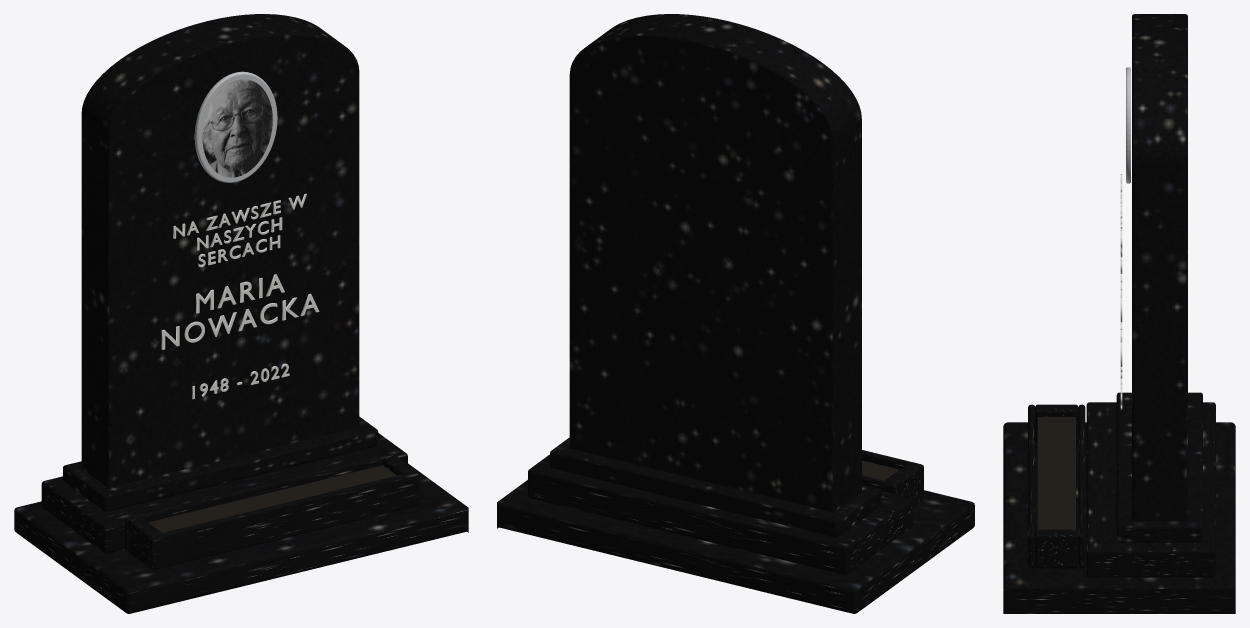
The model's file is rounded-monument.glb.
3 views of the same model, side by side, from view 1: azimuth 30°, elevation 25°; view 2: azimuth 150°, elevation 25°; view 3: azimuth 270°, elevation 25° (orthographic). The views are drawn at different scales.
Visible parts, largest first — view 1: Plyta_klasyczna_lukowa.001, Plyta_pozioma, Donica_wbudowana_przod, Cokol_pod_plyta, Stopien_pod_tablica, Medalion_zdjecie, Ziemia_w_donicy, Donica_wbudowana_tyl, Imie_i_nazwisko, Medalion_ramijka, Napis_pamieci, Napis_pamieci.001 (+2 smaller); view 2: Plyta_klasyczna_lukowa.001, Plyta_pozioma, Stopien_pod_tablica, Cokol_pod_plyta, Donica_wbudowana_lewy_bok, Donica_wbudowana_przod; view 3: Plyta_klasyczna_lukowa.001, Plyta_pozioma, Stopien_pod_tablica, Cokol_pod_plyta, Ziemia_w_donicy, Donica_wbudowana_prawy_bok, Donica_wbudowana_przod, Donica_wbudowana_tyl, Donica_wbudowana_lewy_bok, Medalion_ramijka.
Boxes of the visible parts, x1,y1,x2,y2 form: Plyta_klasyczna_lukowa.001: [81, 14, 359, 487]; Plyta_pozioma: [14, 463, 468, 613]; Donica_wbudowana_przod: [149, 471, 419, 569]; Cokol_pod_plyta: [63, 416, 378, 511]; Stopien_pod_tablica: [41, 433, 407, 553]; Medalion_zdjecie: [202, 79, 272, 177]; Ziemia_w_donicy: [148, 465, 396, 532]; Donica_wbudowana_tyl: [125, 453, 394, 551]; Imie_i_nazwisko: [161, 274, 319, 349]; Medalion_ramijka: [194, 71, 277, 182]; Napis_pamieci: [173, 193, 306, 266]; Napis_pamieci.001: [173, 196, 303, 267]; Plyta_klasyczna_lukowa.001: [569, 14, 861, 512]; Plyta_pozioma: [497, 480, 974, 613]; Stopien_pod_tablica: [528, 454, 912, 574]; Cokol_pod_plyta: [550, 437, 881, 537]; Donica_wbudowana_lewy_bok: [885, 464, 920, 506]; Donica_wbudowana_przod: [862, 450, 923, 500]; Plyta_klasyczna_lukowa.001: [1132, 14, 1187, 520]; Plyta_pozioma: [1003, 422, 1235, 613]; Stopien_pod_tablica: [1086, 402, 1215, 577]; Cokol_pod_plyta: [1116, 392, 1202, 542]; Ziemia_w_donicy: [1037, 417, 1075, 529]; Donica_wbudowana_prawy_bok: [1035, 529, 1078, 568]; Donica_wbudowana_przod: [1028, 404, 1035, 568]; Donica_wbudowana_tyl: [1078, 404, 1085, 568]; Donica_wbudowana_lewy_bok: [1035, 404, 1078, 443]; Medalion_ramijka: [1126, 67, 1130, 183].
Size of the model in its own units: 0.92 by 1.26 by 0.5384.
Materials: 7 (3 with a texture image).
